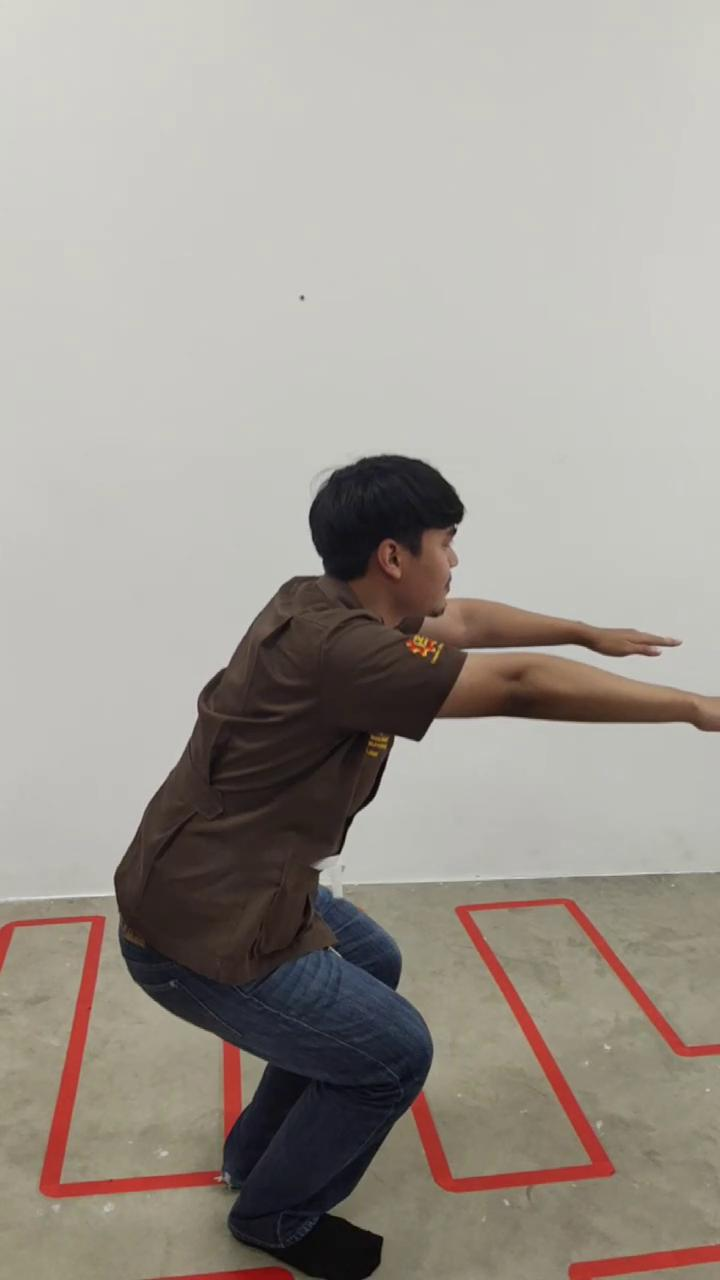squat down: (115, 455, 718, 1280)
